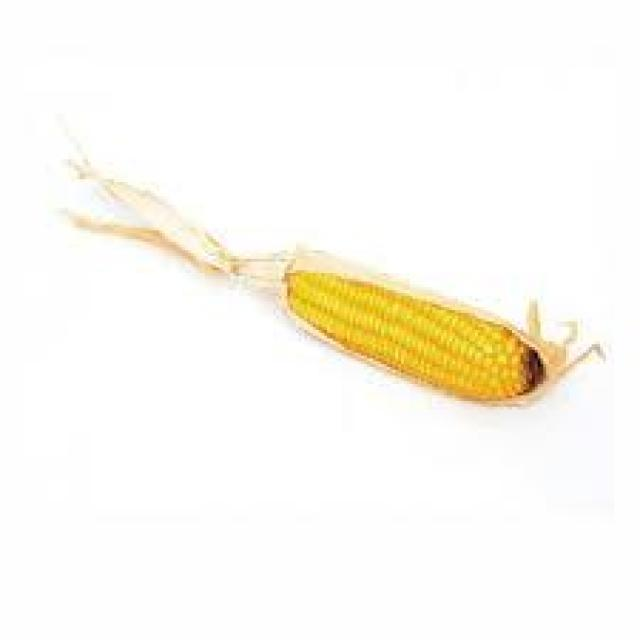organic: (46, 111, 612, 401)
